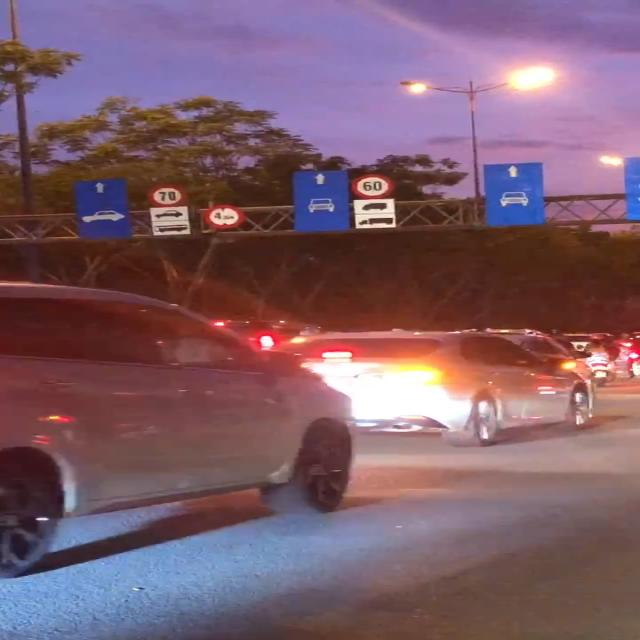Bien bao han che chieu cao: (204, 204, 247, 232)
Bien bao toc do toi da cho phep: (344, 173, 393, 199), (144, 182, 192, 208)
